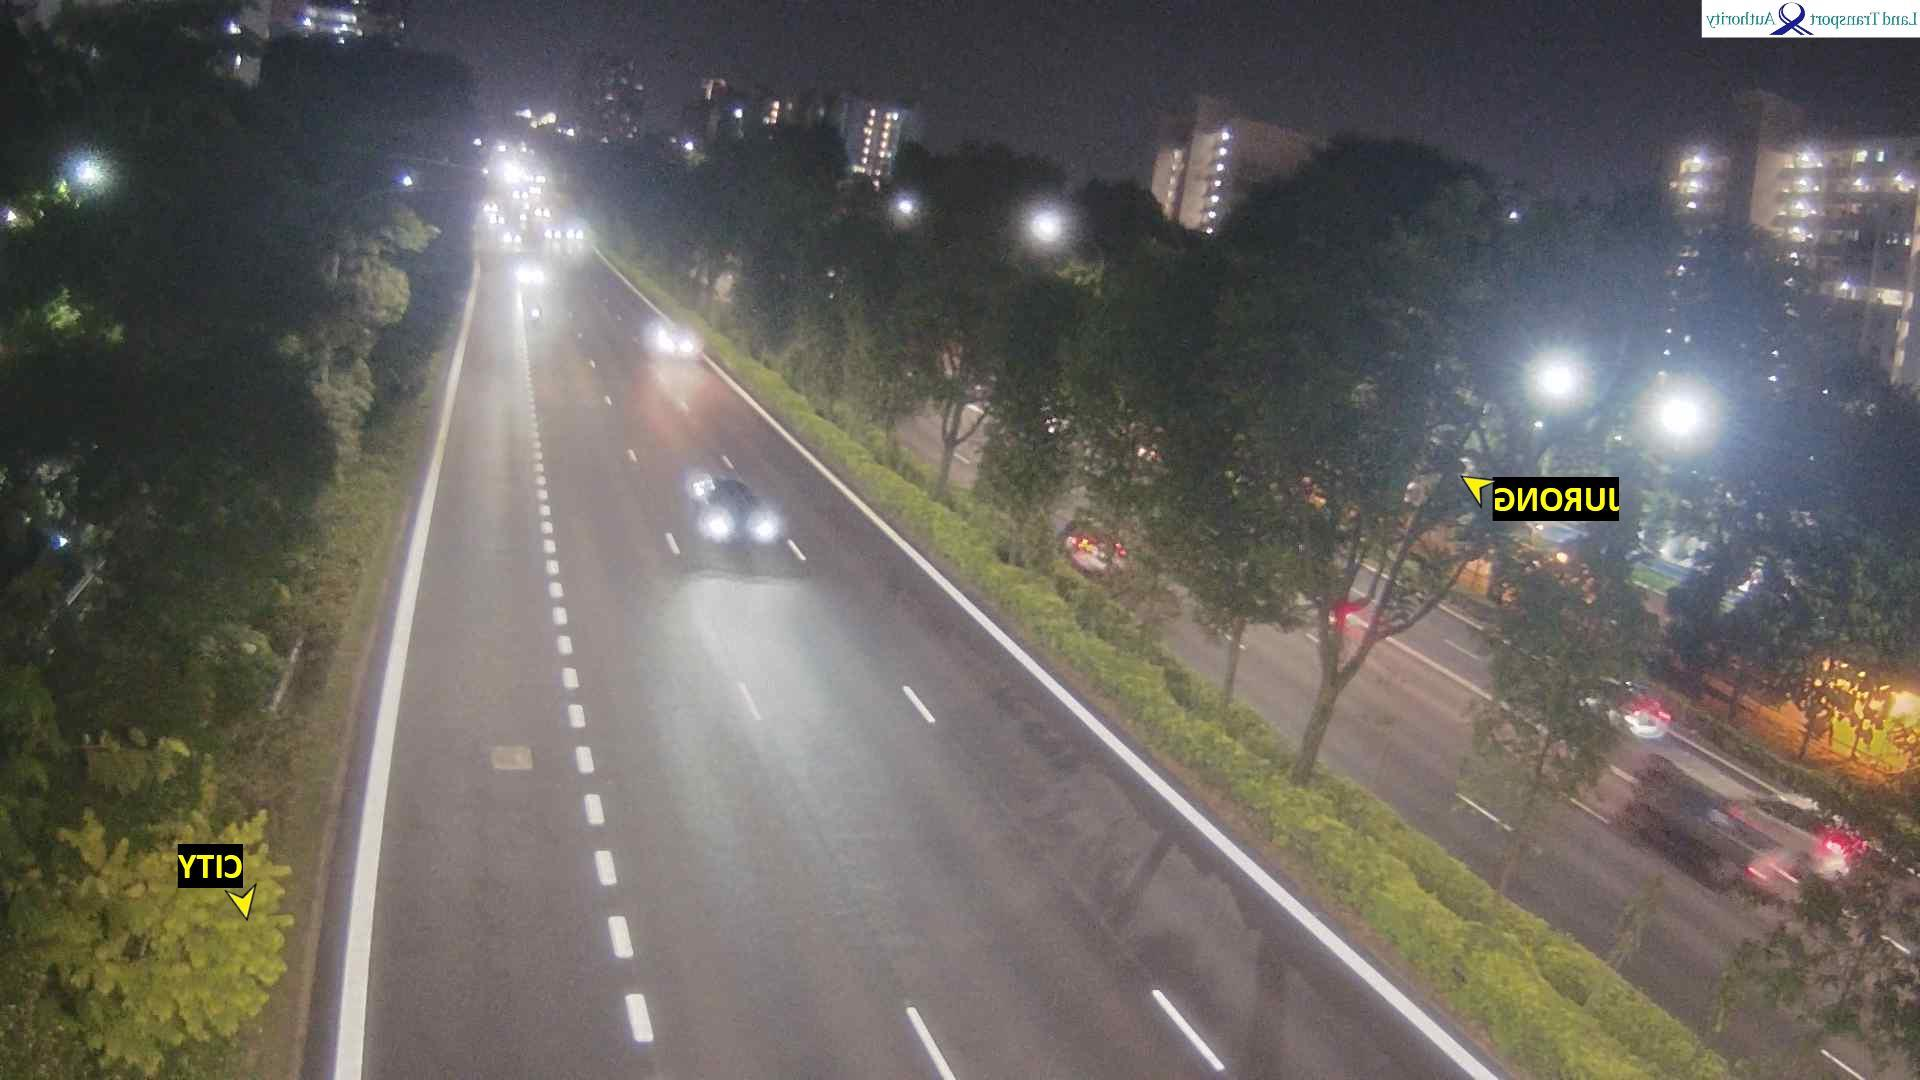cars: (1747, 783, 1871, 880), (687, 471, 785, 549), (1578, 674, 1673, 741), (1062, 520, 1129, 578), (644, 316, 704, 360), (516, 256, 550, 289), (495, 225, 529, 251), (504, 160, 531, 186), (566, 220, 587, 244), (534, 204, 556, 222), (541, 225, 564, 239), (487, 215, 509, 225), (481, 200, 497, 215), (512, 189, 530, 200), (527, 186, 542, 199)
motorcycle: (526, 298, 549, 324), (520, 202, 533, 214), (516, 216, 529, 223)
trucks: (1630, 745, 1782, 895)
